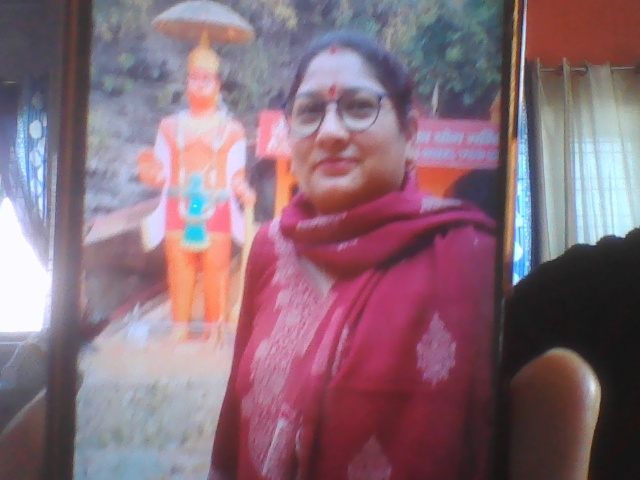fake: (278, 2, 424, 209)
